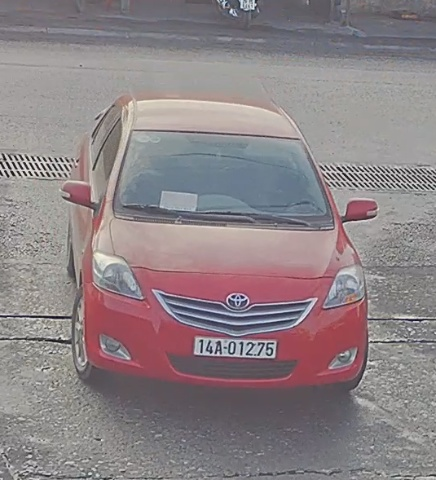vehicle plate: (187, 331, 281, 362)
